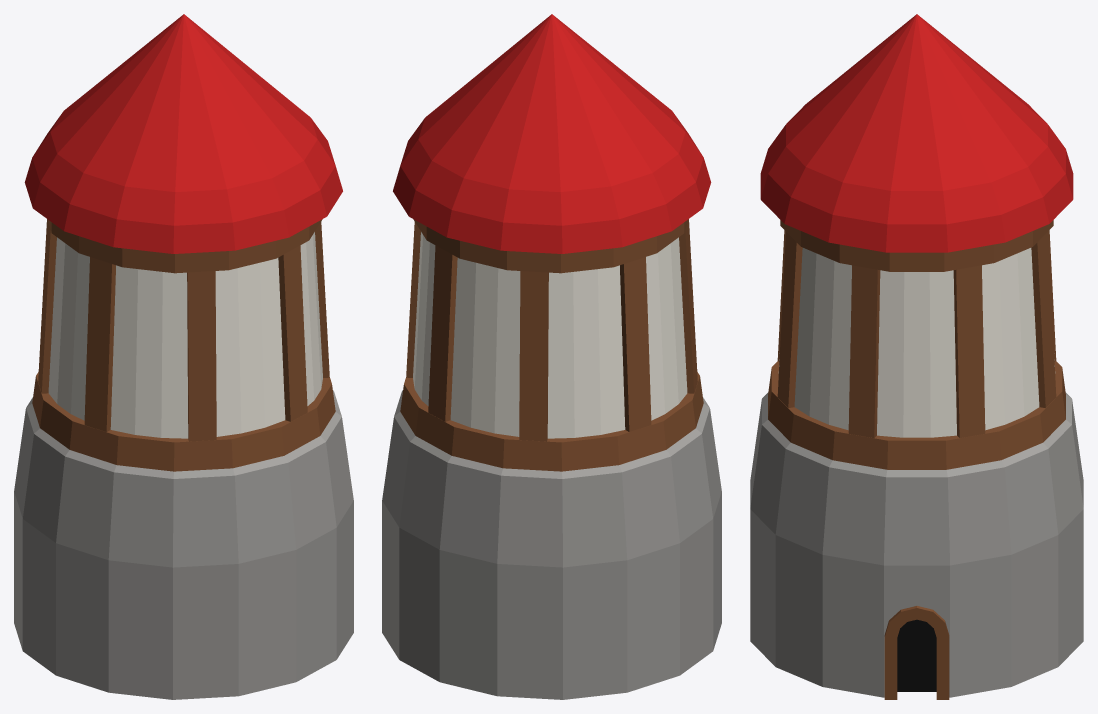
File: Prop_Decorative_Windmill_Building_1.obj
3 views of the same model, side by side, from view 1: azimuth 30°, elevation 25°; view 2: azimuth 150°, elevation 25°; view 3: azimuth 270°, elevation 25° (orthographic).
Visible parts, largest first — view 1: Base, Red, Wall, Wood_Brace, Wood_Band; view 2: Base, Red, Wall, Wood_Brace, Wood_Band; view 3: Base, Red, Wall, Wood_Brace, Wood_Band, Doorframe, Entrance.
Part boxes in pixels (x1,y1,x2,y2): Base: [14, 390, 353, 699]; Red: [24, 14, 342, 253]; Wall: [48, 232, 322, 438]; Wood_Brace: [38, 219, 329, 441]; Wood_Band: [32, 219, 335, 471]; Base: [382, 390, 721, 699]; Red: [393, 14, 711, 253]; Wall: [413, 232, 687, 438]; Wood_Brace: [406, 219, 697, 441]; Wood_Band: [400, 219, 703, 471]; Base: [750, 392, 1083, 697]; Red: [760, 14, 1073, 252]; Wall: [778, 248, 1055, 437]; Wood_Brace: [777, 230, 1056, 437]; Wood_Band: [768, 220, 1065, 469]; Doorframe: [884, 606, 949, 699]; Entrance: [897, 619, 936, 691].
Size of the model in its own units: 3.25 by 6.49 by 3.2.
